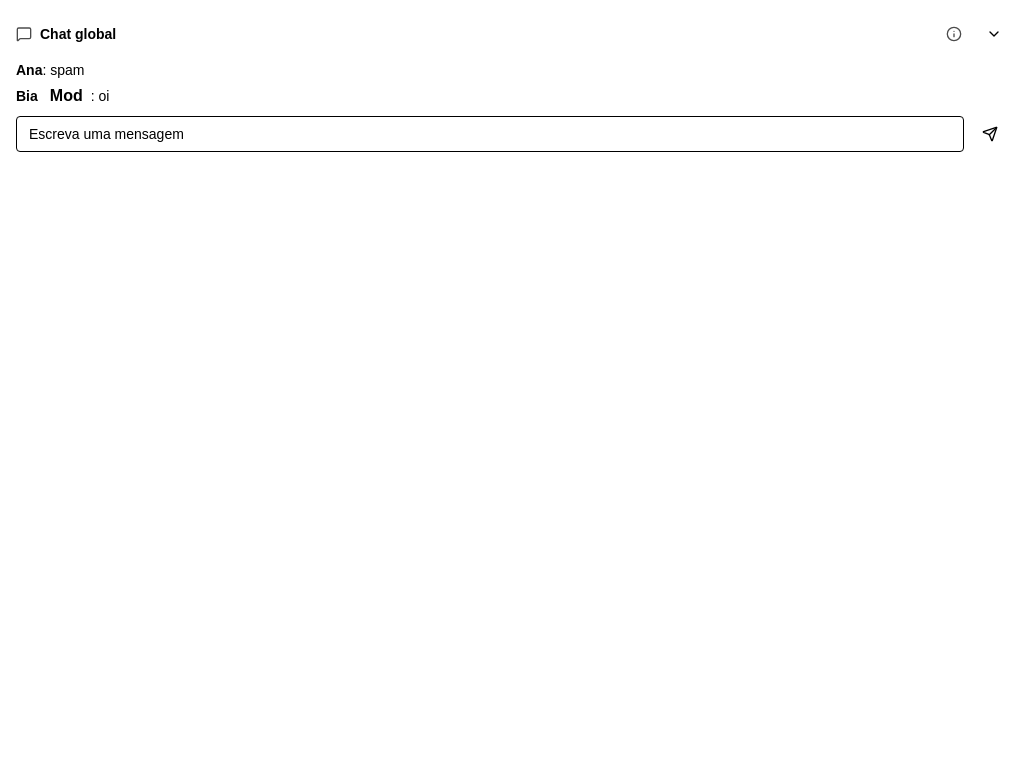
Test: ChatGlobal › aceito, liga a conexão, mostra o selo da moderação e o aviso fica no ícone de informação
The image size is (1024, 768).
expect the list named "Chat global" shows "Ana: spam": met, box top-left (16, 62), bottom-right (109, 104)
expect the text "Mod" is shown: met, box top-left (50, 87), bottom-right (83, 104)
Click the button named "Sobre a moderação" at (954, 34), box top-left (936, 16), bottom-right (972, 52)
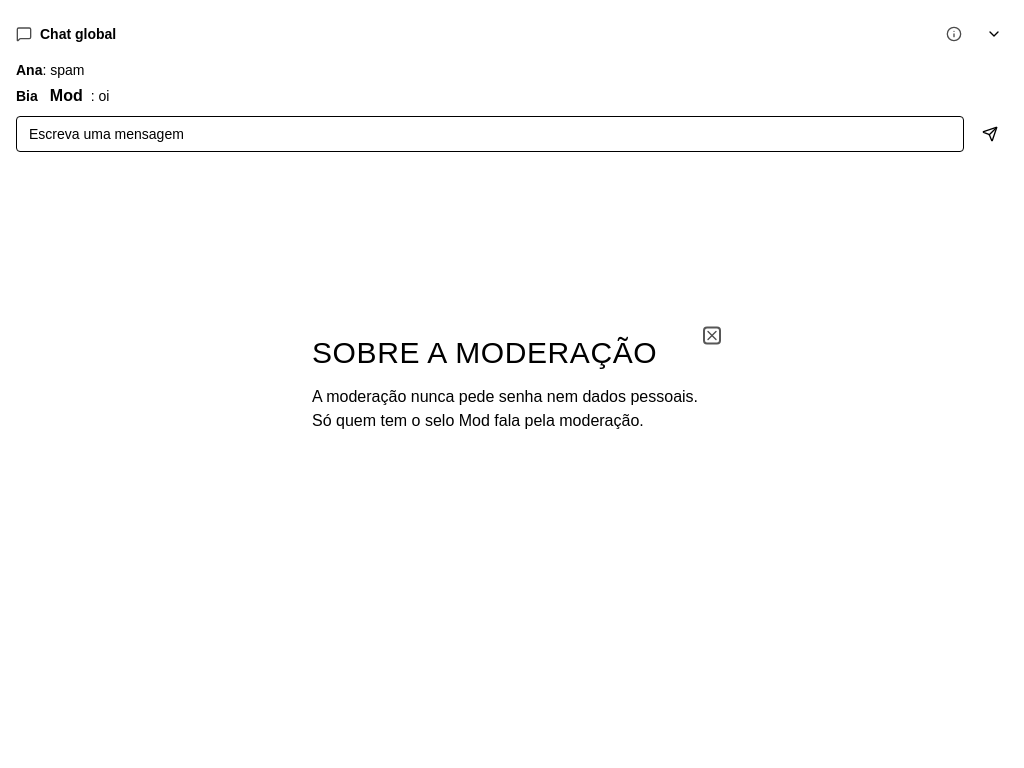
expect the dialog shows "Só quem tem o selo Mod": met, box top-left (312, 388), bottom-right (698, 428)
